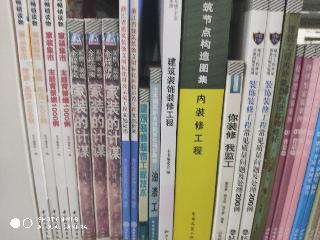book-spine: (167, 0, 230, 240), (248, 0, 303, 240), (234, 0, 285, 240), (223, 0, 268, 240), (12, 0, 52, 240), (268, 45, 316, 240), (276, 46, 320, 240), (263, 45, 304, 239), (28, 0, 61, 240), (42, 0, 71, 240), (55, 0, 81, 240), (68, 19, 95, 240), (156, 0, 180, 240), (211, 61, 243, 240), (86, 20, 109, 239), (103, 20, 122, 239), (119, 0, 129, 240), (148, 70, 161, 238), (130, 1, 138, 239), (139, 90, 149, 239)
